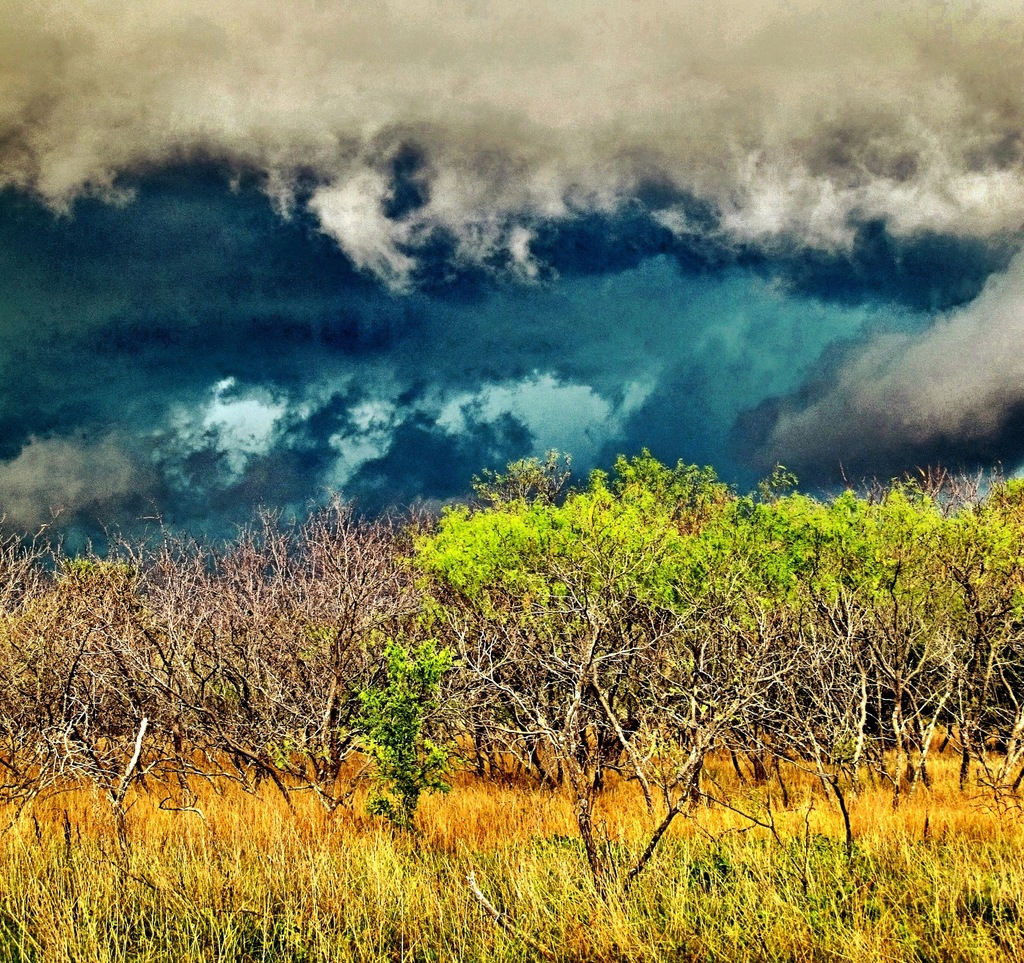Tree: (0, 440, 1022, 915), (332, 616, 462, 813)
